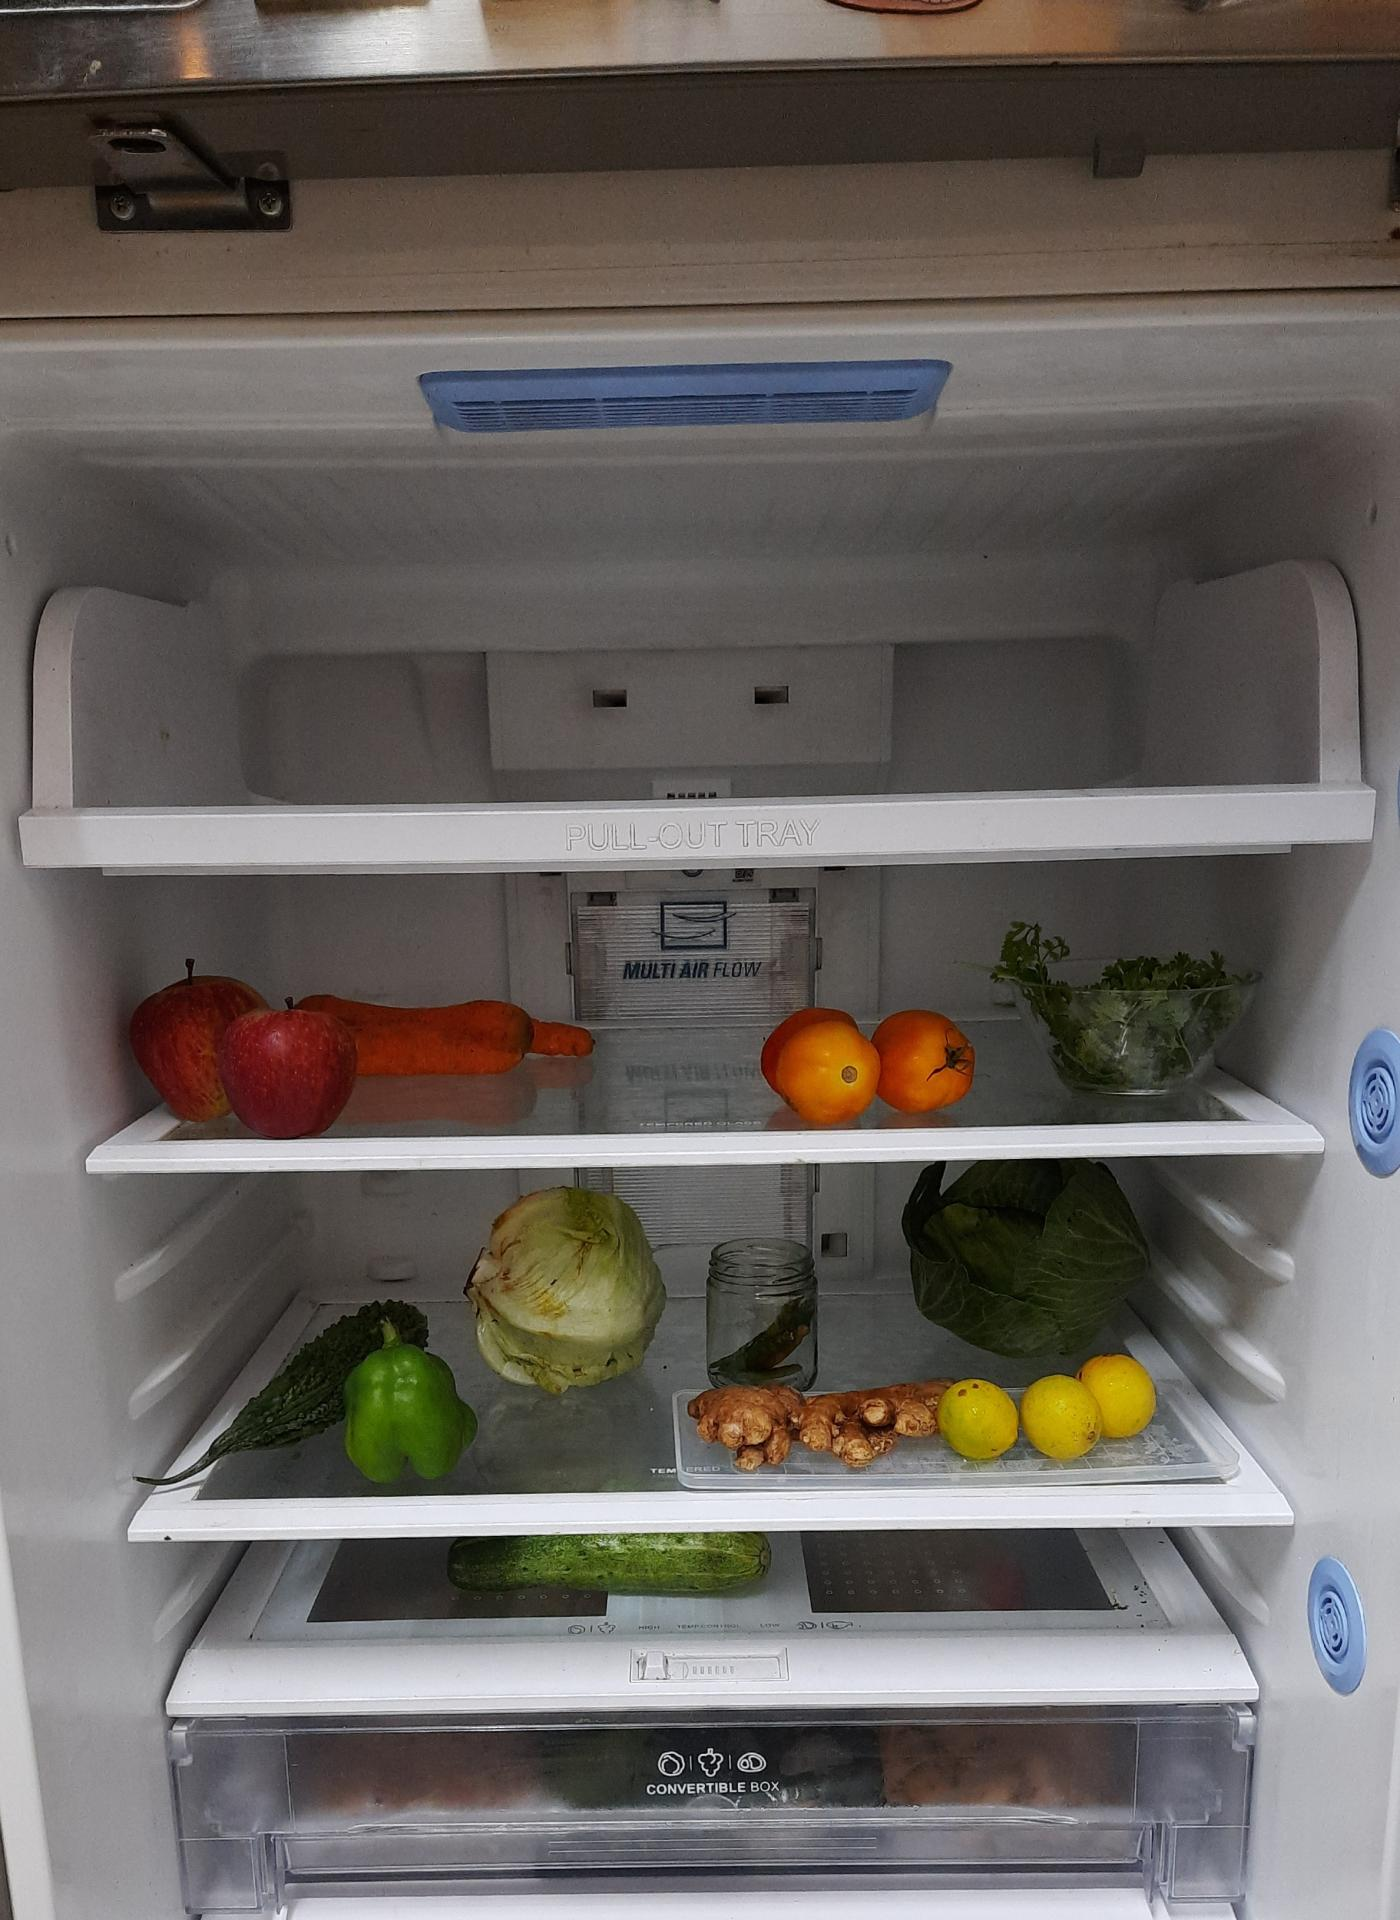apple: (131, 951, 364, 1140)
bitter gourd: (143, 1291, 435, 1483)
cabbage: (906, 1152, 1155, 1365)
capsicum: (335, 1319, 489, 1488)
carrots: (301, 969, 608, 1081)
chillies: (708, 1282, 824, 1395)
coriander: (1000, 929, 1248, 1100)
cucumber: (447, 1531, 777, 1607)
ginger: (687, 1374, 950, 1465)
lemon: (941, 1361, 1161, 1468)
lettuce: (458, 1179, 674, 1394)
tomato: (756, 1011, 972, 1127)
